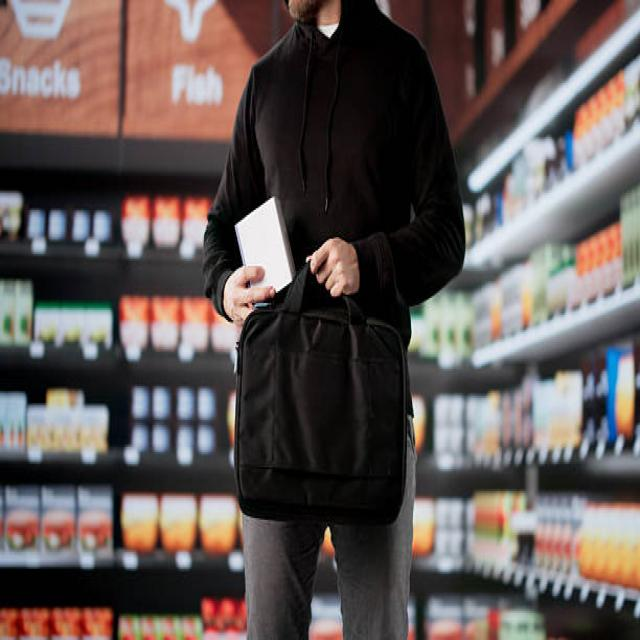article: (235, 196, 294, 291)
bags: (234, 266, 408, 523)
hands: (306, 237, 359, 295), (224, 266, 275, 325)
person: (204, 0, 464, 347), (245, 410, 415, 638)
